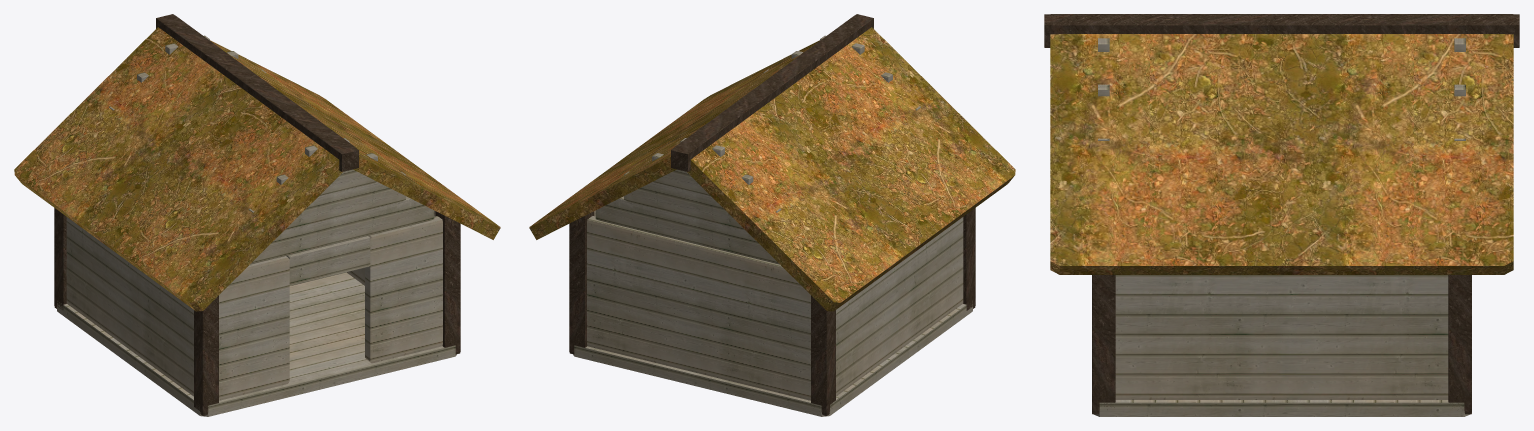
Rendered from hut.glb.
The picture shows the model from 3 angles, left to right: view 1: azimuth 30°, elevation 25°; view 2: azimuth 150°, elevation 25°; view 3: azimuth 270°, elevation 25°; orthographic projection. The views are drawn at different scales.
Parts seen in each view (by area): view 1: hut; view 2: hut; view 3: hut.
Boxes of the visible parts, box(x1,y1,x2,y2) form: hut: box(14, 14, 500, 416); hut: box(529, 14, 1015, 416); hut: box(1044, 14, 1519, 416).
Size of the model in its own units: 3.86 by 2.95 by 4.
Materials: 3 (3 with a texture image).
